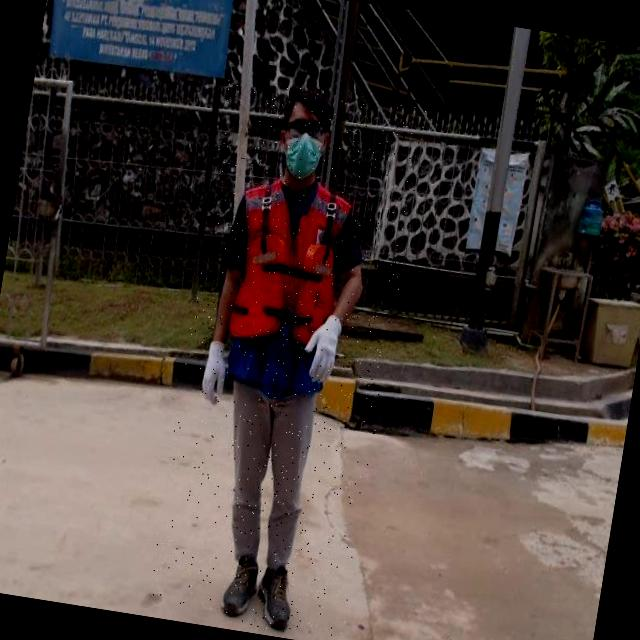boots: (250, 558, 304, 634), (217, 550, 264, 624)
vest: (214, 169, 359, 400)
